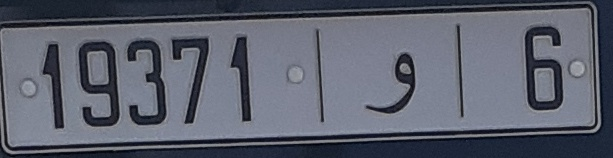1: (37, 40, 76, 134), (226, 32, 263, 128)
3: (122, 35, 168, 127)
6: (518, 21, 570, 113)
7: (167, 32, 212, 127)
9: (74, 37, 124, 129)
waw: (359, 46, 425, 116)
